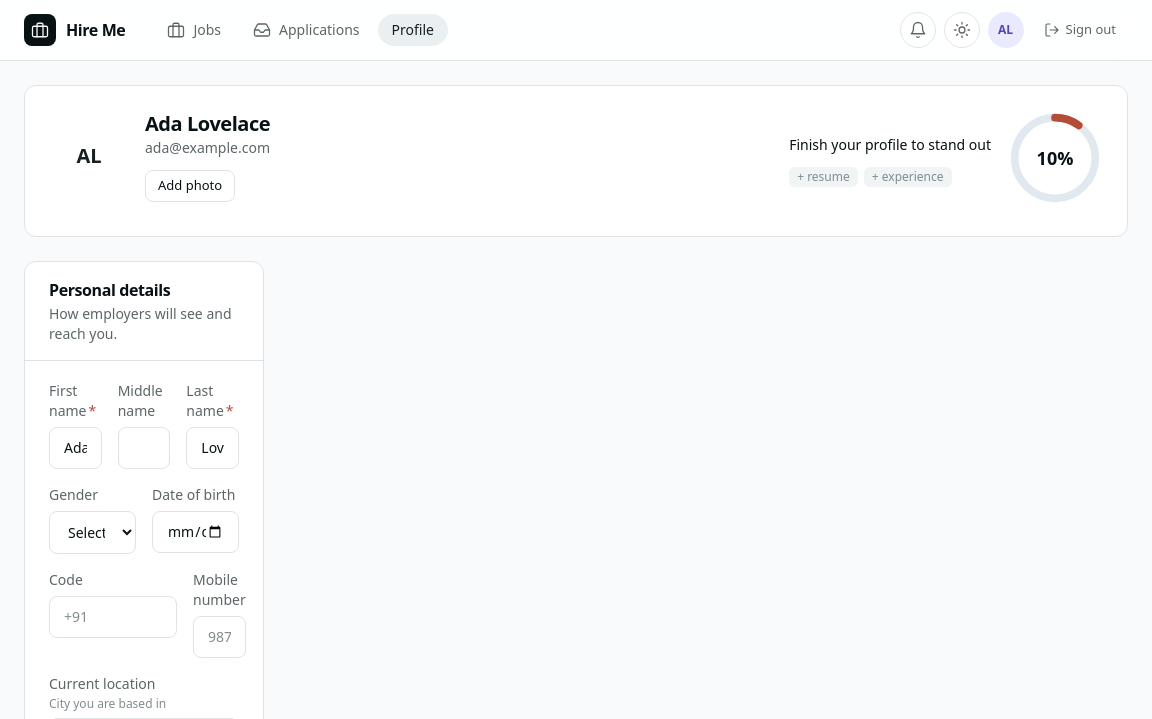
signed-in shell › signs the user out and returns to the sign-in screen
Expected: the heading "Ada Lovelace" is shown, 145,110 -> 270,138
Click the button "Sign out" at coordinates (1080, 30), box 1032,14 -> 1128,46
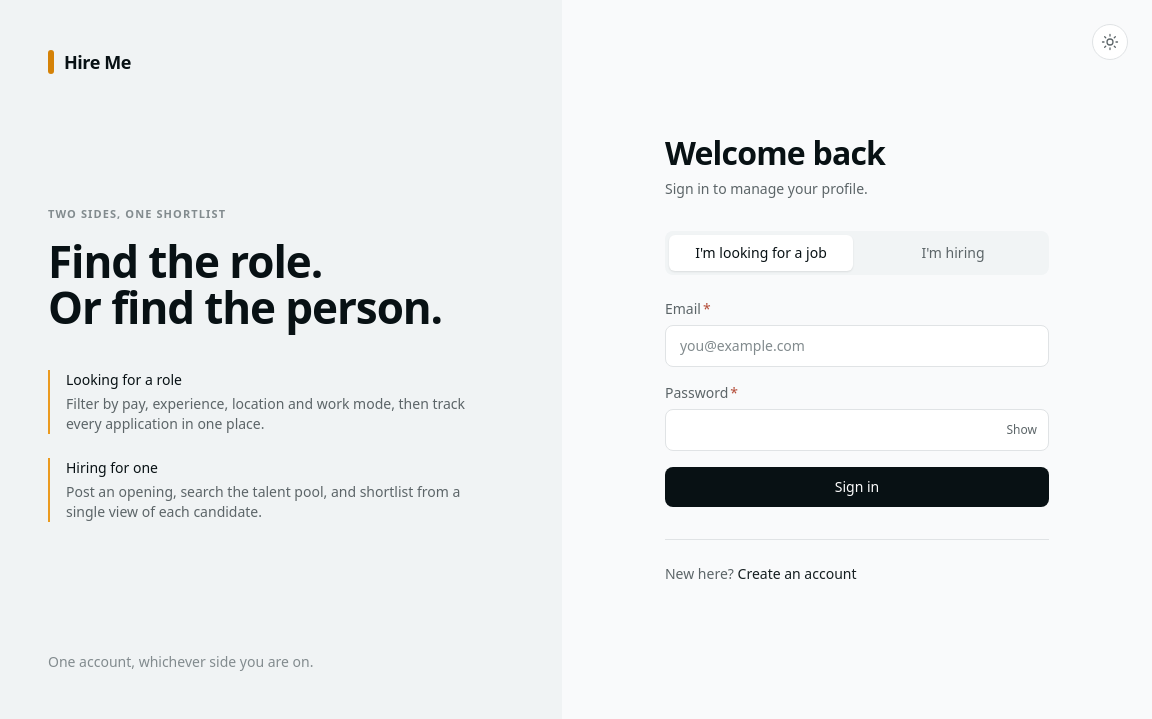
Now the heading "Welcome back" is shown, box 665,130 -> 885,174
